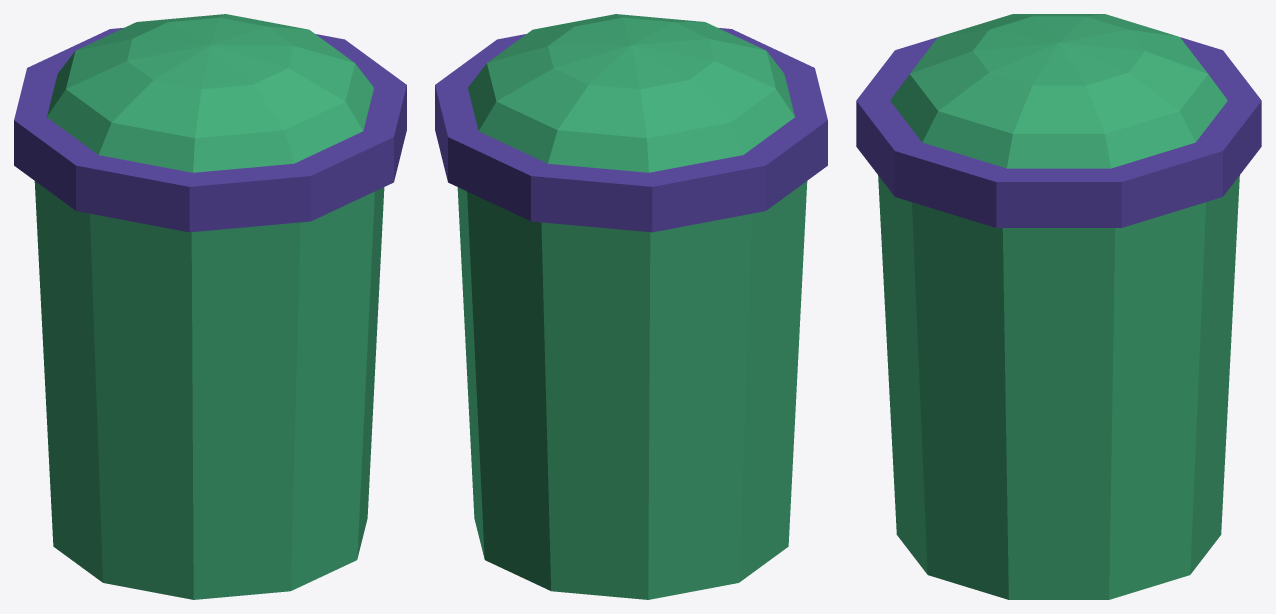
File: prop_bin.glb
3 renders of one model, left to right at view 1: azimuth 30°, elevation 25°; view 2: azimuth 150°, elevation 25°; view 3: azimuth 270°, elevation 25°, orthographic.
Parts seen in each view (by area): view 1: prop_bin; view 2: prop_bin; view 3: prop_bin.
Boxes of the visible parts, <box> form: prop_bin: <box>14,14,406,599</box>; prop_bin: <box>435,14,827,599</box>; prop_bin: <box>856,14,1261,599</box>.
Size of the model in its own units: 0.7608 by 1.07 by 0.8.
